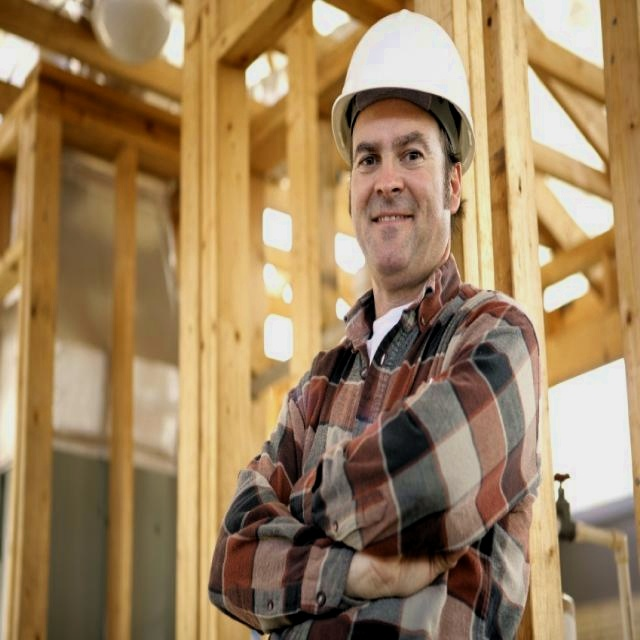Con_Casco: (337, 10, 469, 277)
